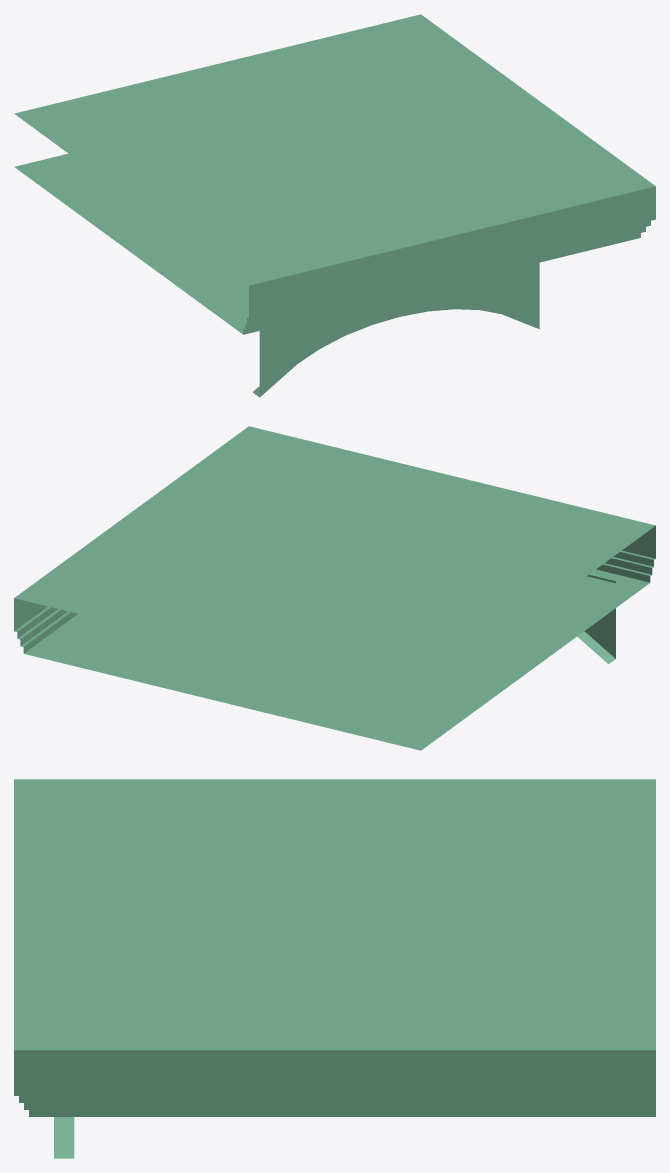
The model's file is object_B3_Top_floors_div_corner.glb.
3 renders of one model, top to bottom at view 1: azimuth 30°, elevation 25°; view 2: azimuth 150°, elevation 25°; view 3: azimuth 270°, elevation 25°, orthographic. The views are drawn at different scales.
Parts seen in each view (by area): view 1: B3 Top floors div corner; view 2: B3 Top floors div corner; view 3: B3 Top floors div corner.
Part boxes in pixels (box(x1,y1,x2,y2)): B3 Top floors div corner: box(14, 14, 655, 397); B3 Top floors div corner: box(14, 426, 655, 750); B3 Top floors div corner: box(14, 779, 655, 1158).
Size of the model in its own units: 3.2 by 0.9688 by 3.2.
